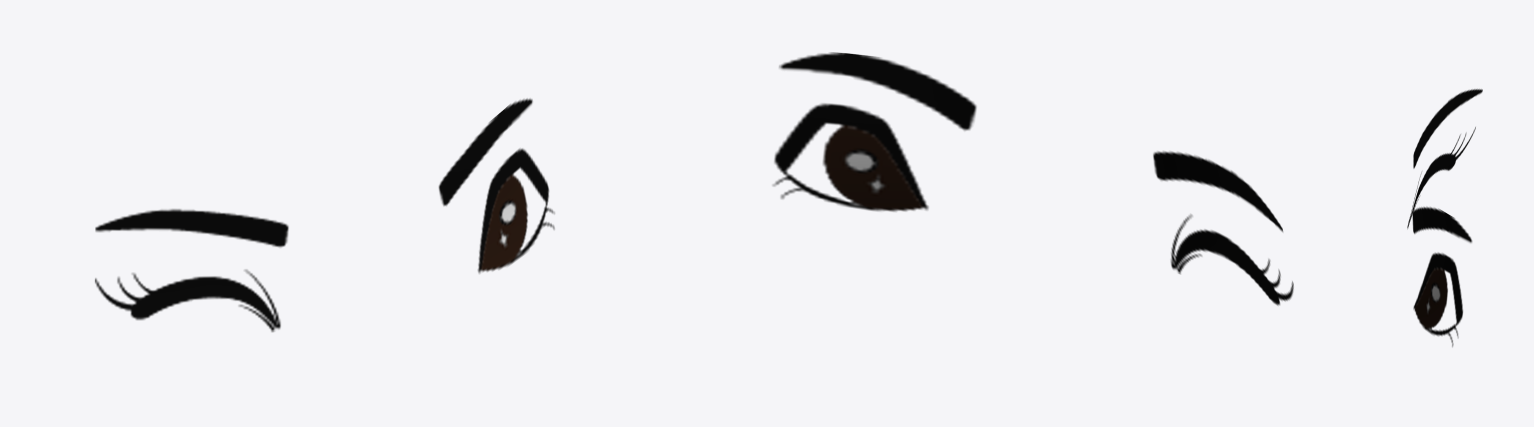
Rendered from Wink.gltf.
3 renders of one model, left to right at view 1: azimuth 30°, elevation 25°; view 2: azimuth 150°, elevation 25°; view 3: azimuth 270°, elevation 25°, orthographic. The views are drawn at different scales.
Visible parts, largest first — view 1: eyes10; view 2: eyes10; view 3: eyes10.
Part boxes in pixels (x1,y1,x2,y2): eyes10: (94,98,554,332); eyes10: (773,52,1293,305); eyes10: (1407,89,1482,346).
Size of the model in its own units: 6.44 by 2.52 by 1.45.
1 material, 1 textured.
